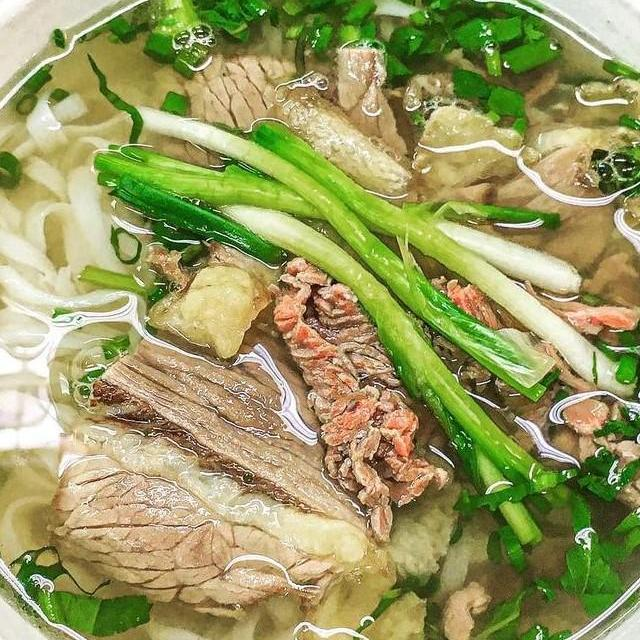banh pho: (0, 69, 168, 463), (114, 586, 322, 640)
pho bo: (0, 0, 640, 640)
thit bo: (80, 220, 378, 546), (35, 398, 378, 620), (386, 62, 640, 361), (258, 240, 460, 550), (138, 41, 380, 212), (381, 265, 640, 410)
